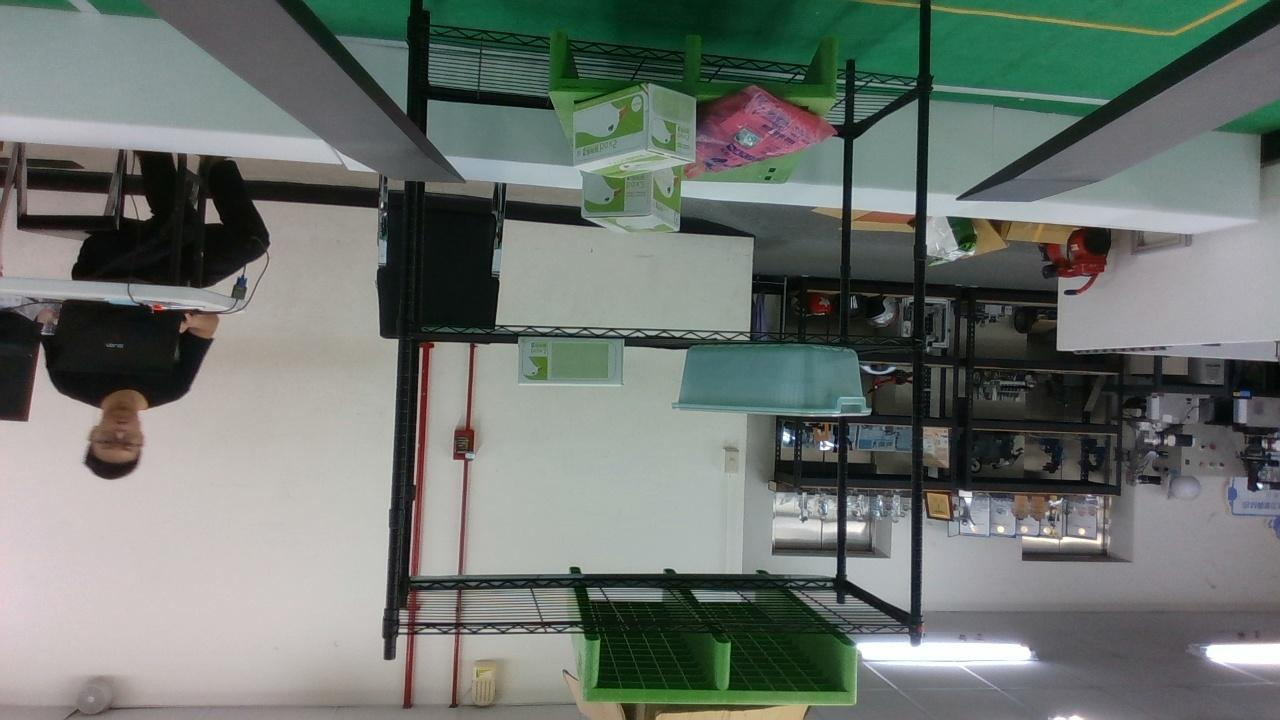Pallet: (548, 33, 838, 100), (582, 638, 859, 704)
